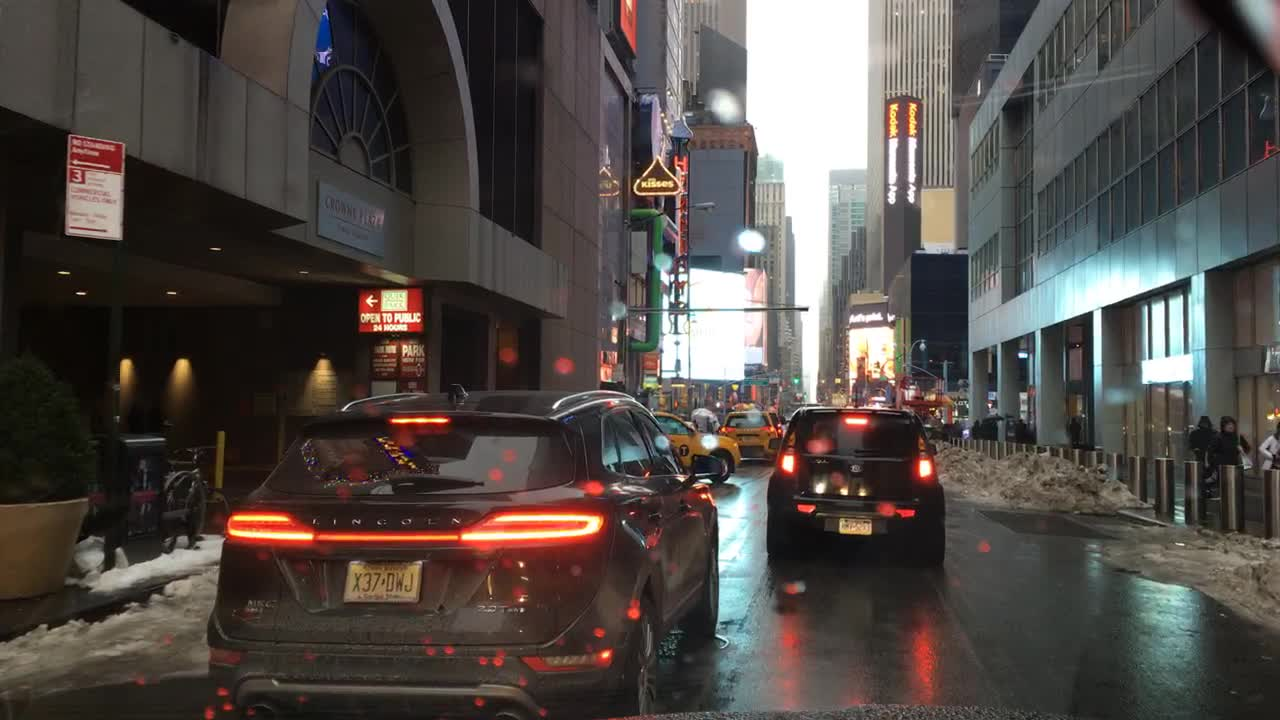bike: (158, 448, 215, 549), (1197, 447, 1217, 493)
car: (206, 380, 726, 716), (766, 404, 947, 560), (655, 409, 743, 482), (717, 409, 779, 461), (769, 411, 788, 435)
person: (1212, 415, 1255, 471), (1260, 424, 1279, 469), (1073, 421, 1087, 446), (1016, 416, 1031, 439), (971, 420, 988, 440), (991, 420, 1001, 439), (954, 417, 962, 438)
rider: (1190, 415, 1214, 456)
traffic light: (739, 377, 764, 384), (792, 373, 800, 384)
traffic sign: (64, 132, 124, 241)
